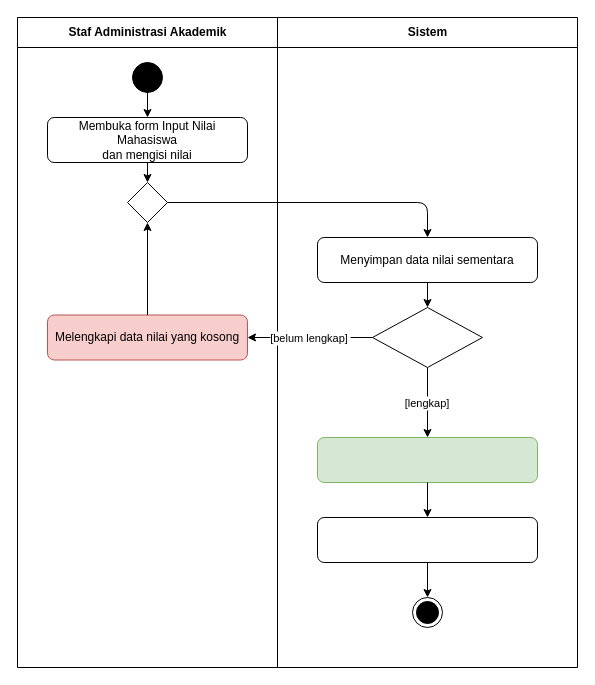
Image size: 595x685. Some labels were removed from this diagram. Each missing label, with the centre of its shape:
"Data nilai lengkap?" belongs at [427,337].
"Menyimpan nilai final dan menerbitkan ke KHS" belongs at [427,539].
"Verifikasi Nilai Mahasiswa (include)" belongs at [427,459].
